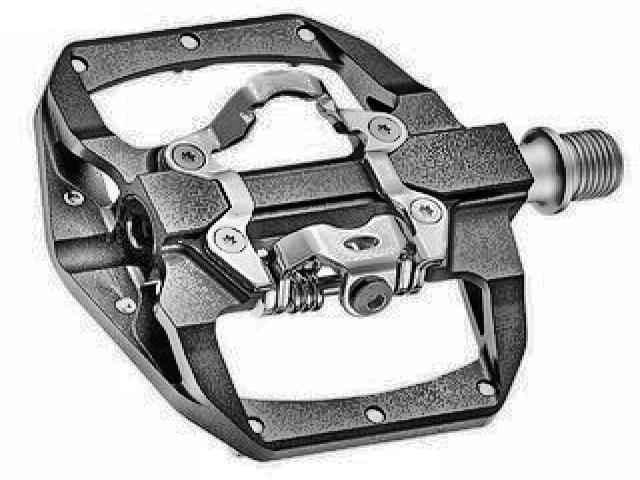pedal: (34, 15, 625, 460)
